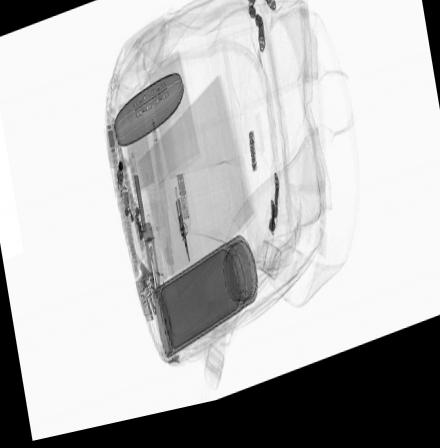Lighter: (119, 186, 138, 243)
